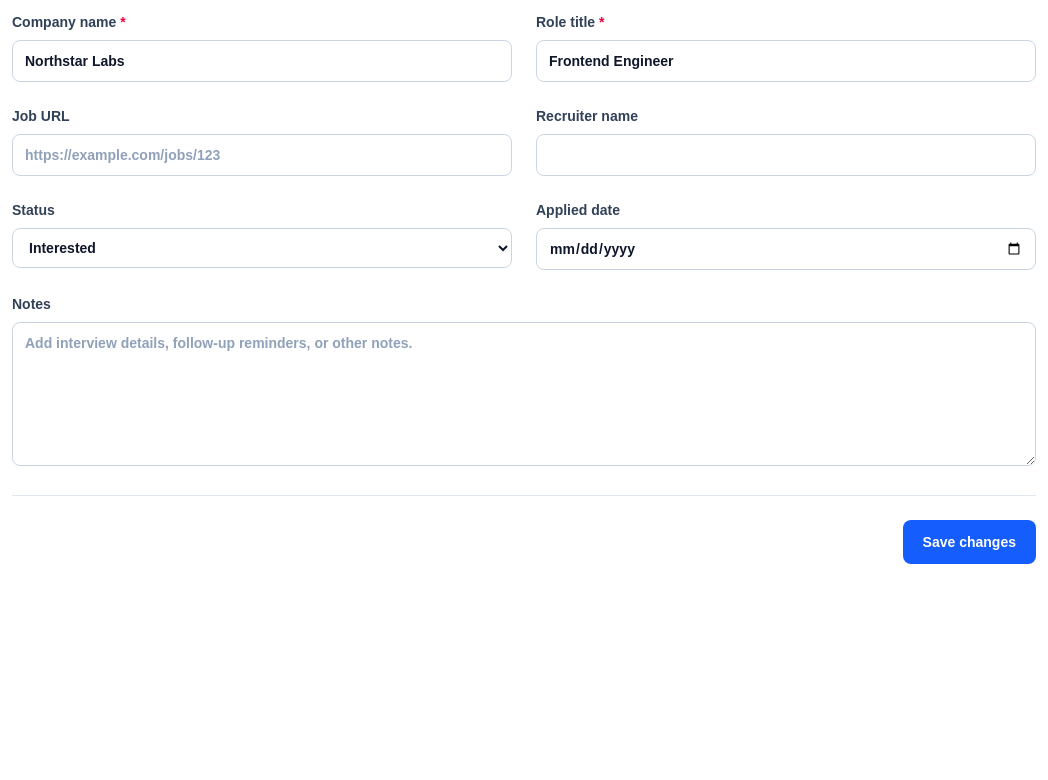
Test: ApplicationEditForm › keeps the selected status after a successful update
The width and height of the screenshot is (1048, 780).
Select "Interview" in the dropdown labelled "Status": (262, 248) [12, 228, 512, 268]
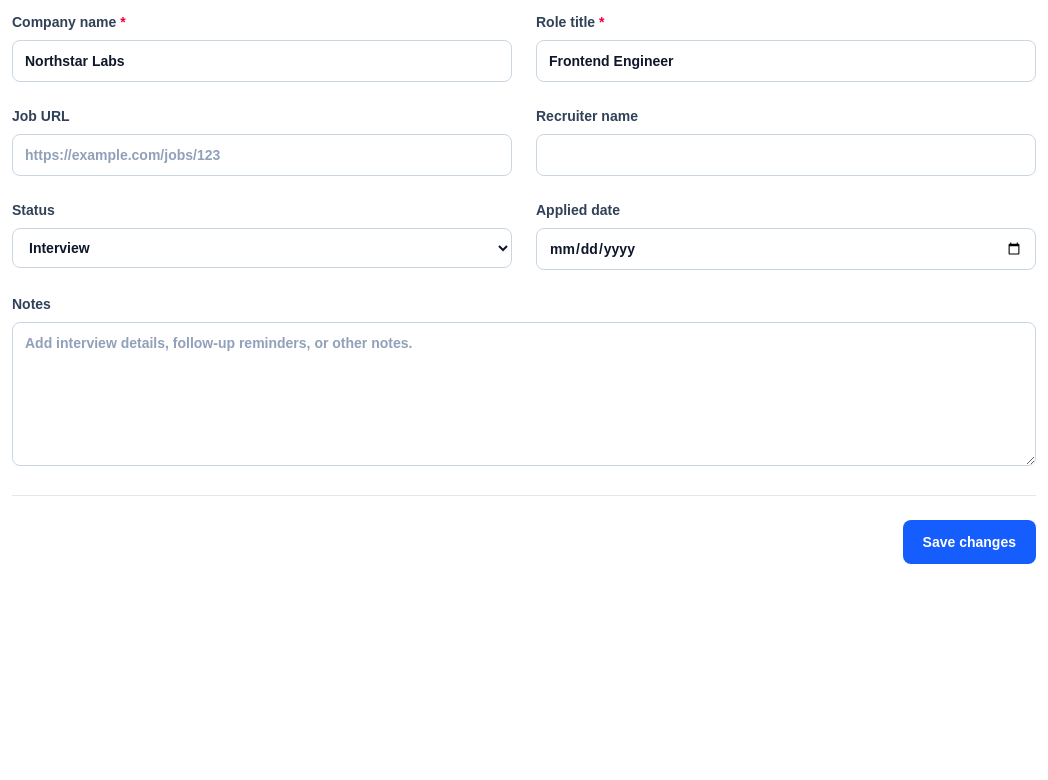
Click the button "Save changes": (969, 542) [903, 520, 1036, 564]
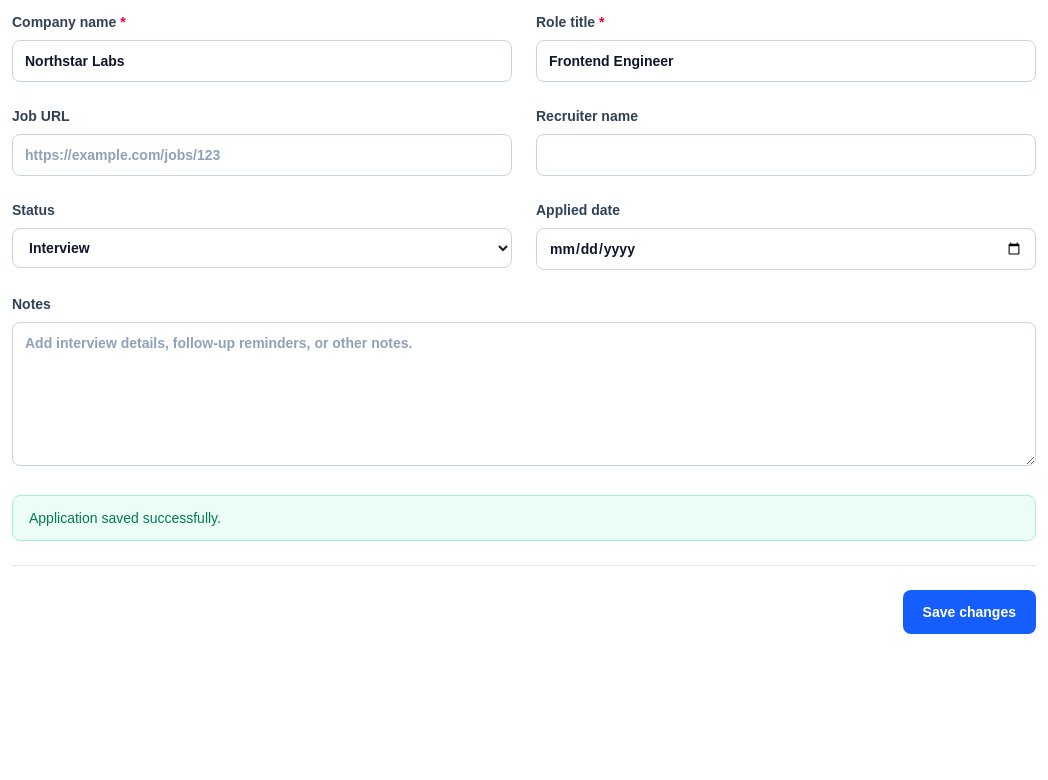
Now the text "Application saved successfully." is shown, box [12, 495, 1036, 541]
